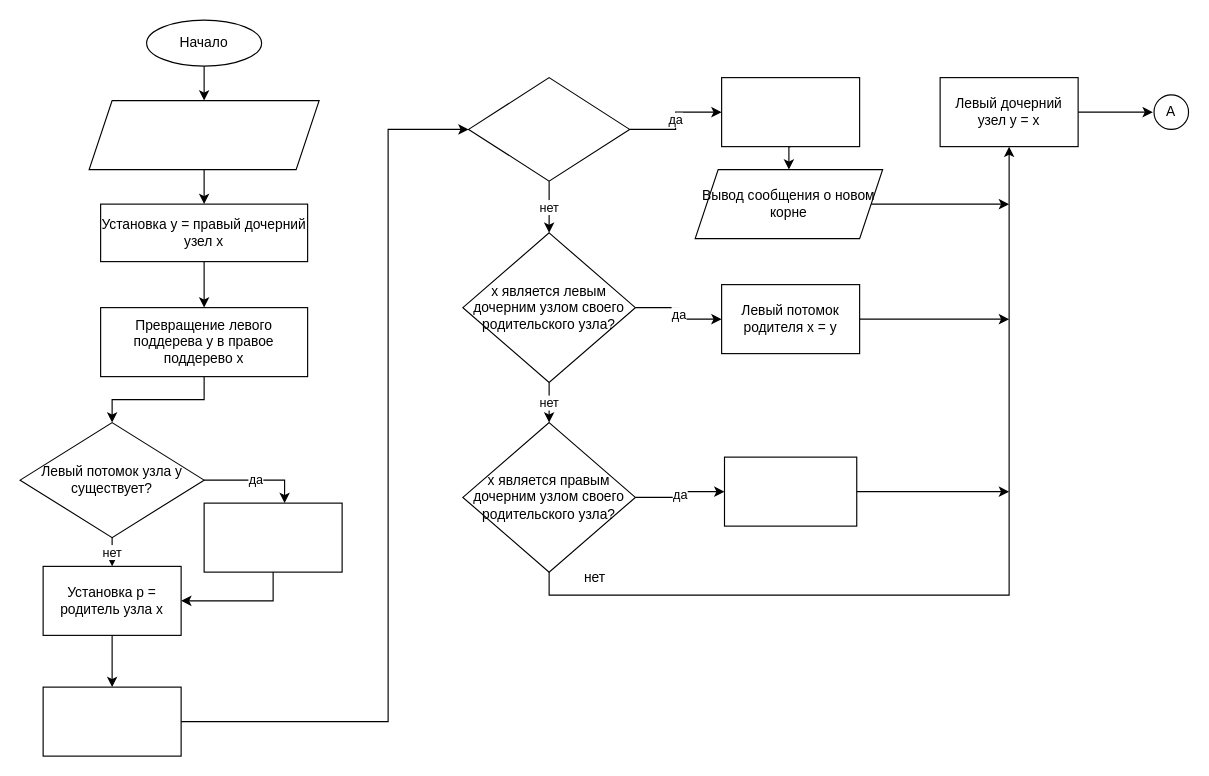
This 1209x776 diagram has some shape labels left out. Here are the shapes that lost their labels. From the top down, the box of each, then its label:
(467, 76, 630, 181): х является корнем дерева?
(720, 76, 860, 147): Корень дерева = y
(88, 99, 319, 170): Вывести сообщение о левом повороте на узле x
(723, 456, 857, 526): Правый потомок родителя x = y
(203, 502, 342, 572): Родитель левого потомка узла y = x
(42, 686, 181, 756): Родитель узла y = p
